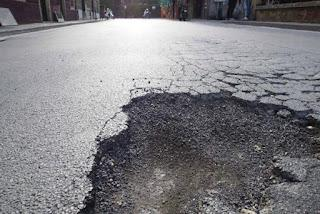Pothole: (55, 58, 320, 214)
